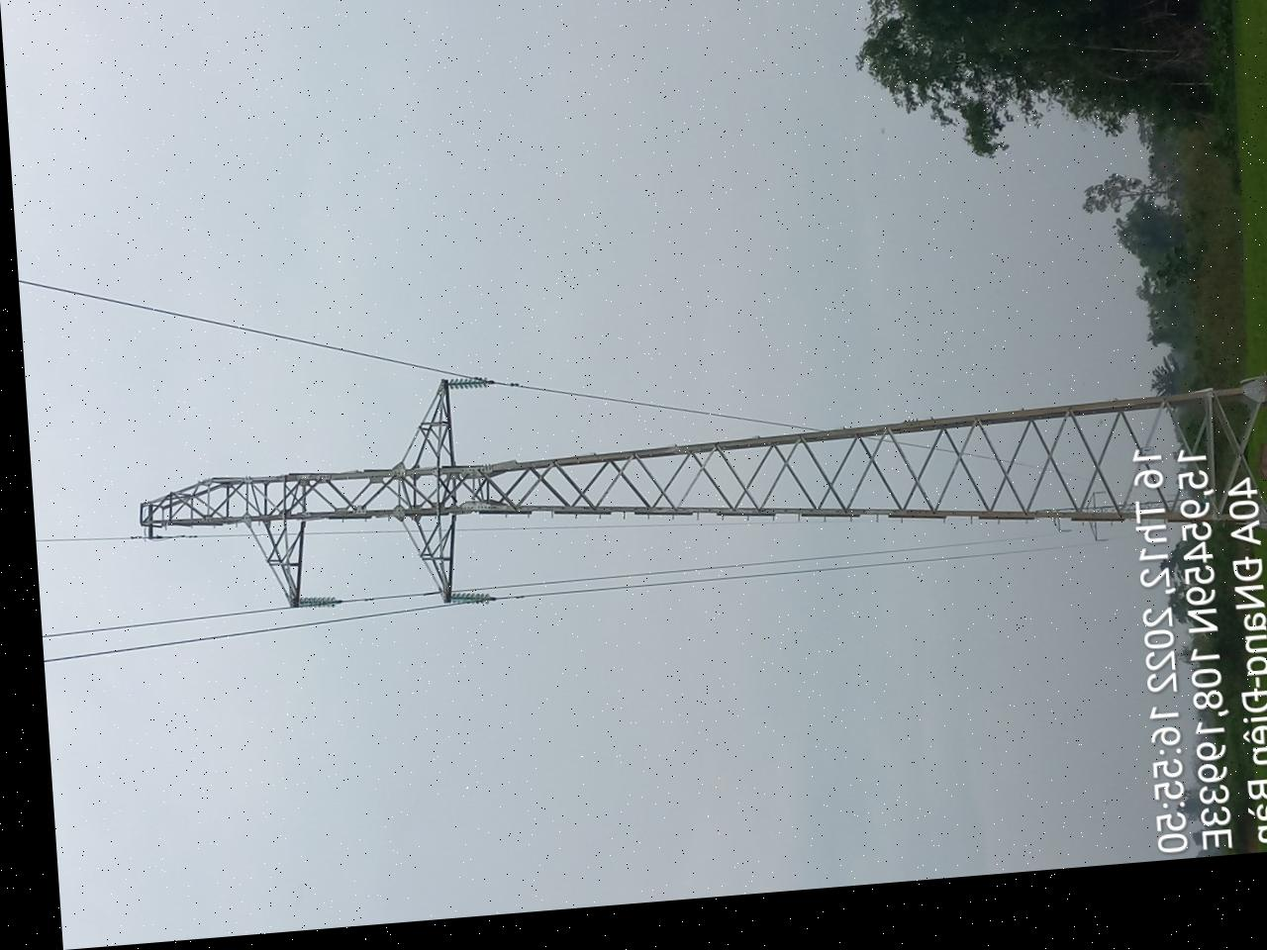tower: (413, 0, 692, 819)
